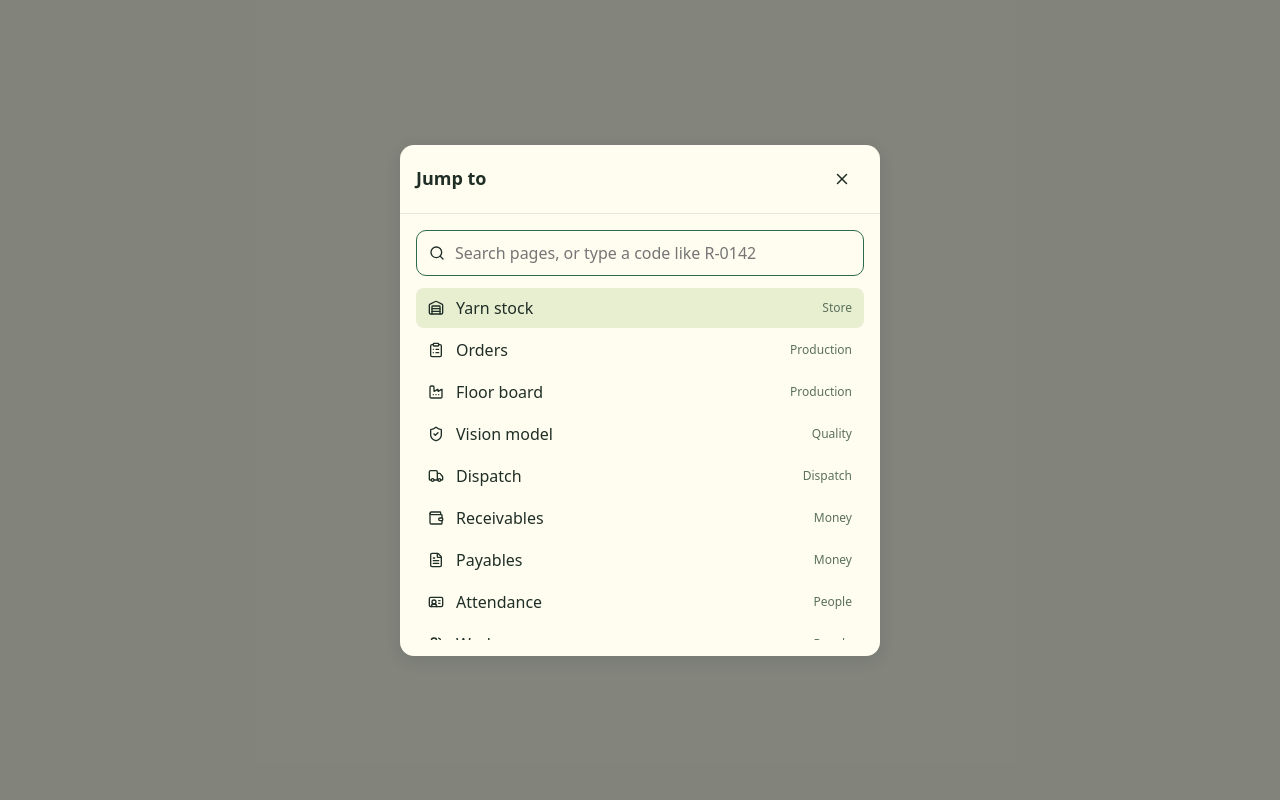
Test: CommandPalette › narrows the list as you type
Type "floor" into the dropdown. click: (652, 252)
box: x1=453 y1=230 x2=851 y2=274
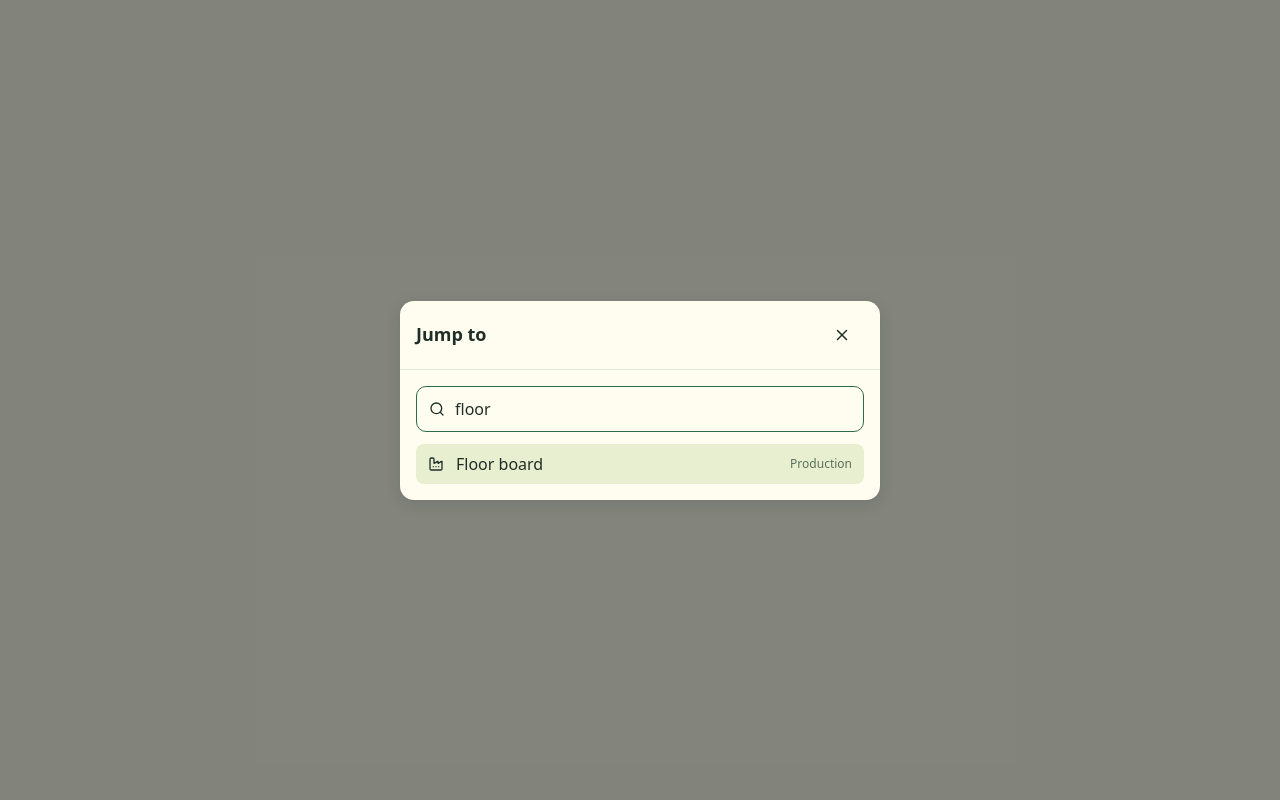
expect the option shows "Floor board": met, box x1=416 y1=444 x2=864 y2=484
expect the number of options is 1: met, box x1=416 y1=444 x2=864 y2=484
